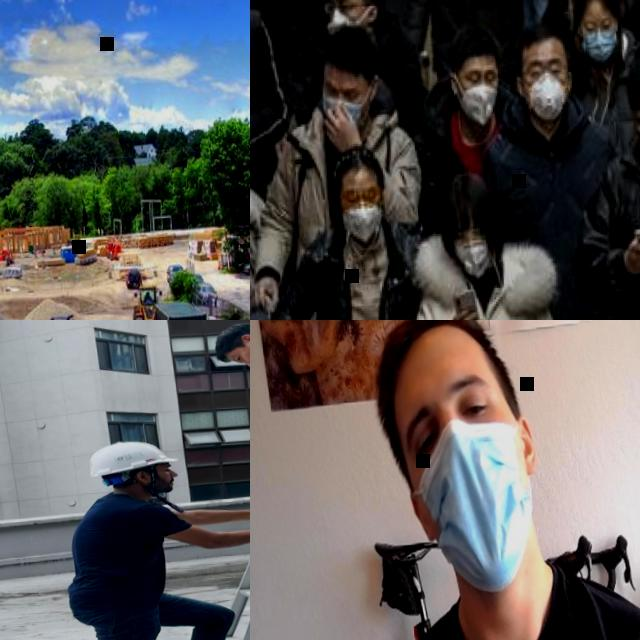helmet: (87, 436, 176, 477)
machinery: (131, 283, 165, 320)
mask: (407, 416, 540, 600), (520, 72, 572, 125), (320, 91, 370, 132), (455, 79, 499, 125), (342, 202, 385, 245), (581, 28, 621, 63), (456, 243, 490, 279), (328, 6, 373, 33)
no_helmet: (373, 320, 488, 404), (437, 168, 494, 230), (319, 26, 381, 78), (331, 140, 383, 184), (515, 16, 568, 56), (448, 26, 500, 64), (212, 320, 250, 359), (624, 50, 640, 114), (571, 0, 616, 14)
no_mask: (153, 469, 177, 492)
no_vest: (491, 121, 623, 320), (59, 488, 170, 622), (569, 59, 637, 158), (600, 154, 640, 320), (422, 118, 489, 202), (371, 20, 409, 117), (427, 0, 515, 36), (321, 0, 415, 15)
person: (323, 320, 640, 640), (257, 19, 430, 320), (481, 7, 638, 320), (52, 427, 250, 640), (401, 161, 582, 320), (273, 137, 428, 320), (410, 27, 535, 245), (283, 0, 426, 162), (562, 49, 640, 320), (554, 0, 640, 165), (402, 0, 544, 95), (287, 0, 430, 62), (250, 0, 292, 198), (541, 0, 640, 76), (250, 0, 292, 58)
vehicle: (196, 280, 218, 304), (167, 263, 186, 283), (125, 268, 142, 288), (192, 272, 204, 284)
